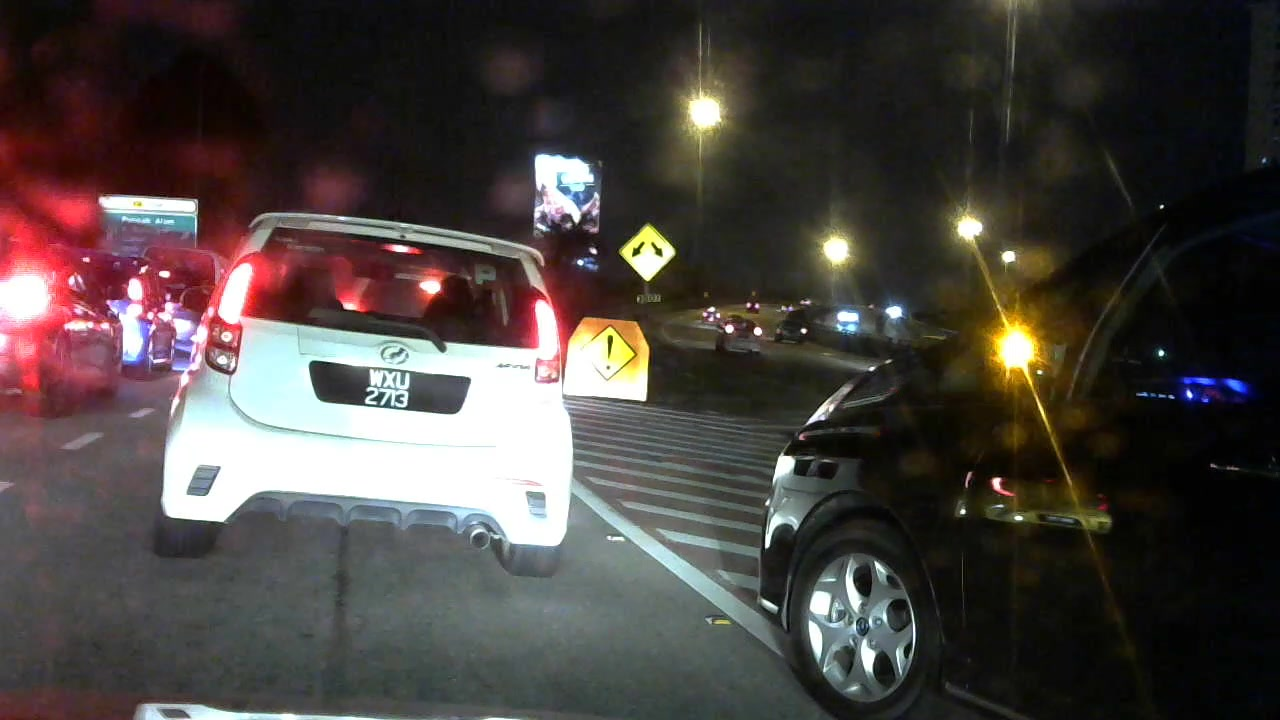Car: (749, 171, 1280, 710), (164, 192, 586, 578), (1, 238, 123, 399), (105, 252, 181, 364), (714, 312, 766, 369), (774, 314, 815, 350), (695, 302, 716, 331), (737, 293, 759, 318), (780, 302, 796, 311)
